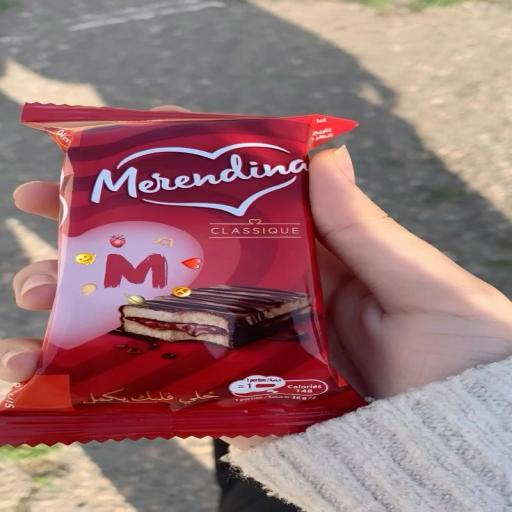merendina: (0, 75, 400, 446)
